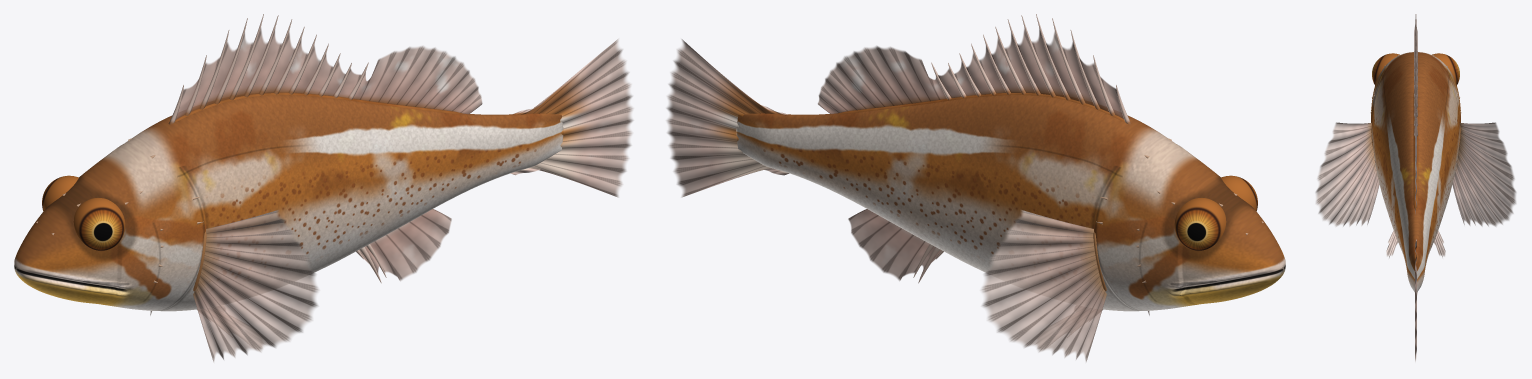
Rendered from copper-rockfish-pale.glb.
3 renders of one model, left to right at view 1: azimuth 30°, elevation 25°; view 2: azimuth 150°, elevation 25°; view 3: azimuth 270°, elevation 25°, orthographic. The views are drawn at different scales.
Parts seen in each view (by area): view 1: Body, Fin_Pectoral_L, Fin_Dorsal, Fin_Caudal, Spines, Fin_Anal, Eye_L, Fin_Base_Fillets, Eye_R, Fin_Pelvic_L; view 2: Body, Fin_Pectoral_R, Fin_Dorsal, Fin_Caudal, Spines, Fin_Anal, Eye_R, Fin_Base_Fillets, Eye_L, Fin_Pelvic_R; view 3: Body, Fin_Pectoral_L, Fin_Pectoral_R, Fin_Base_Fillets, Fin_Dorsal, Spines, Eye_L, Eye_R, Fin_Caudal, Fin_Pelvic_L, Fin_Pelvic_R.
Boxes of the visible parts, x1,y1,x2,y2 form: Body: (14, 95, 563, 311); Fin_Pectoral_L: (193, 210, 319, 361); Fin_Dorsal: (176, 27, 482, 119); Fin_Caudal: (510, 39, 633, 197); Spines: (168, 14, 386, 283); Fin_Anal: (359, 209, 451, 281); Eye_L: (73, 198, 125, 250); Fin_Base_Fillets: (175, 92, 462, 121); Eye_R: (42, 175, 78, 211); Fin_Pelvic_L: (205, 308, 263, 348); Body: (736, 95, 1285, 311); Fin_Pectoral_R: (980, 210, 1106, 361); Fin_Dorsal: (817, 27, 1123, 118); Fin_Caudal: (666, 39, 789, 197); Spines: (913, 14, 1131, 283); Fin_Anal: (848, 209, 940, 280); Eye_R: (1174, 198, 1226, 250); Fin_Base_Fillets: (837, 93, 1124, 121); Eye_L: (1221, 175, 1257, 211); Fin_Pelvic_R: (1036, 308, 1094, 348); Body: (1371, 52, 1460, 292); Fin_Pectoral_L: (1315, 122, 1379, 226); Fin_Pectoral_R: (1452, 122, 1516, 226); Fin_Base_Fillets: (1413, 75, 1418, 210); Fin_Dorsal: (1414, 25, 1417, 213); Spines: (1414, 14, 1417, 136); Eye_L: (1372, 53, 1399, 85); Eye_R: (1432, 53, 1459, 85); Fin_Caudal: (1415, 239, 1416, 361); Fin_Pelvic_L: (1386, 230, 1397, 257); Fin_Pelvic_R: (1434, 230, 1445, 257).
Bounding box in the file's own units: 0.422 × 0.2072 × 0.156.
10 materials, 9 textured.
